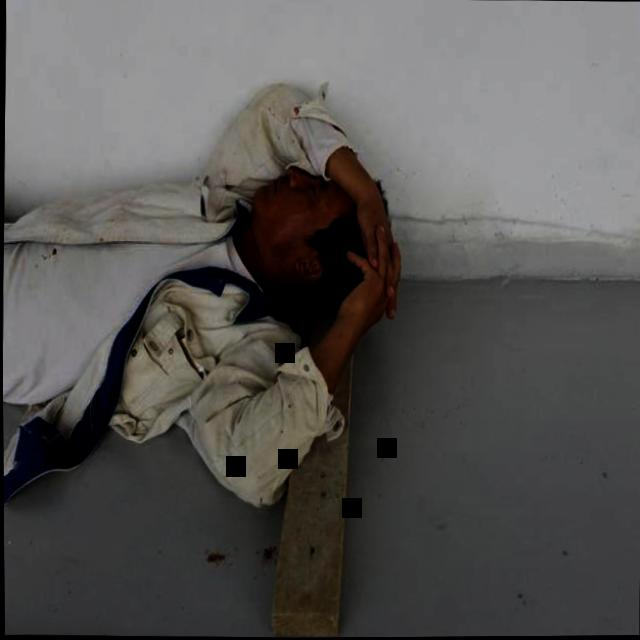Fall-Detected: (1, 104, 401, 527)
